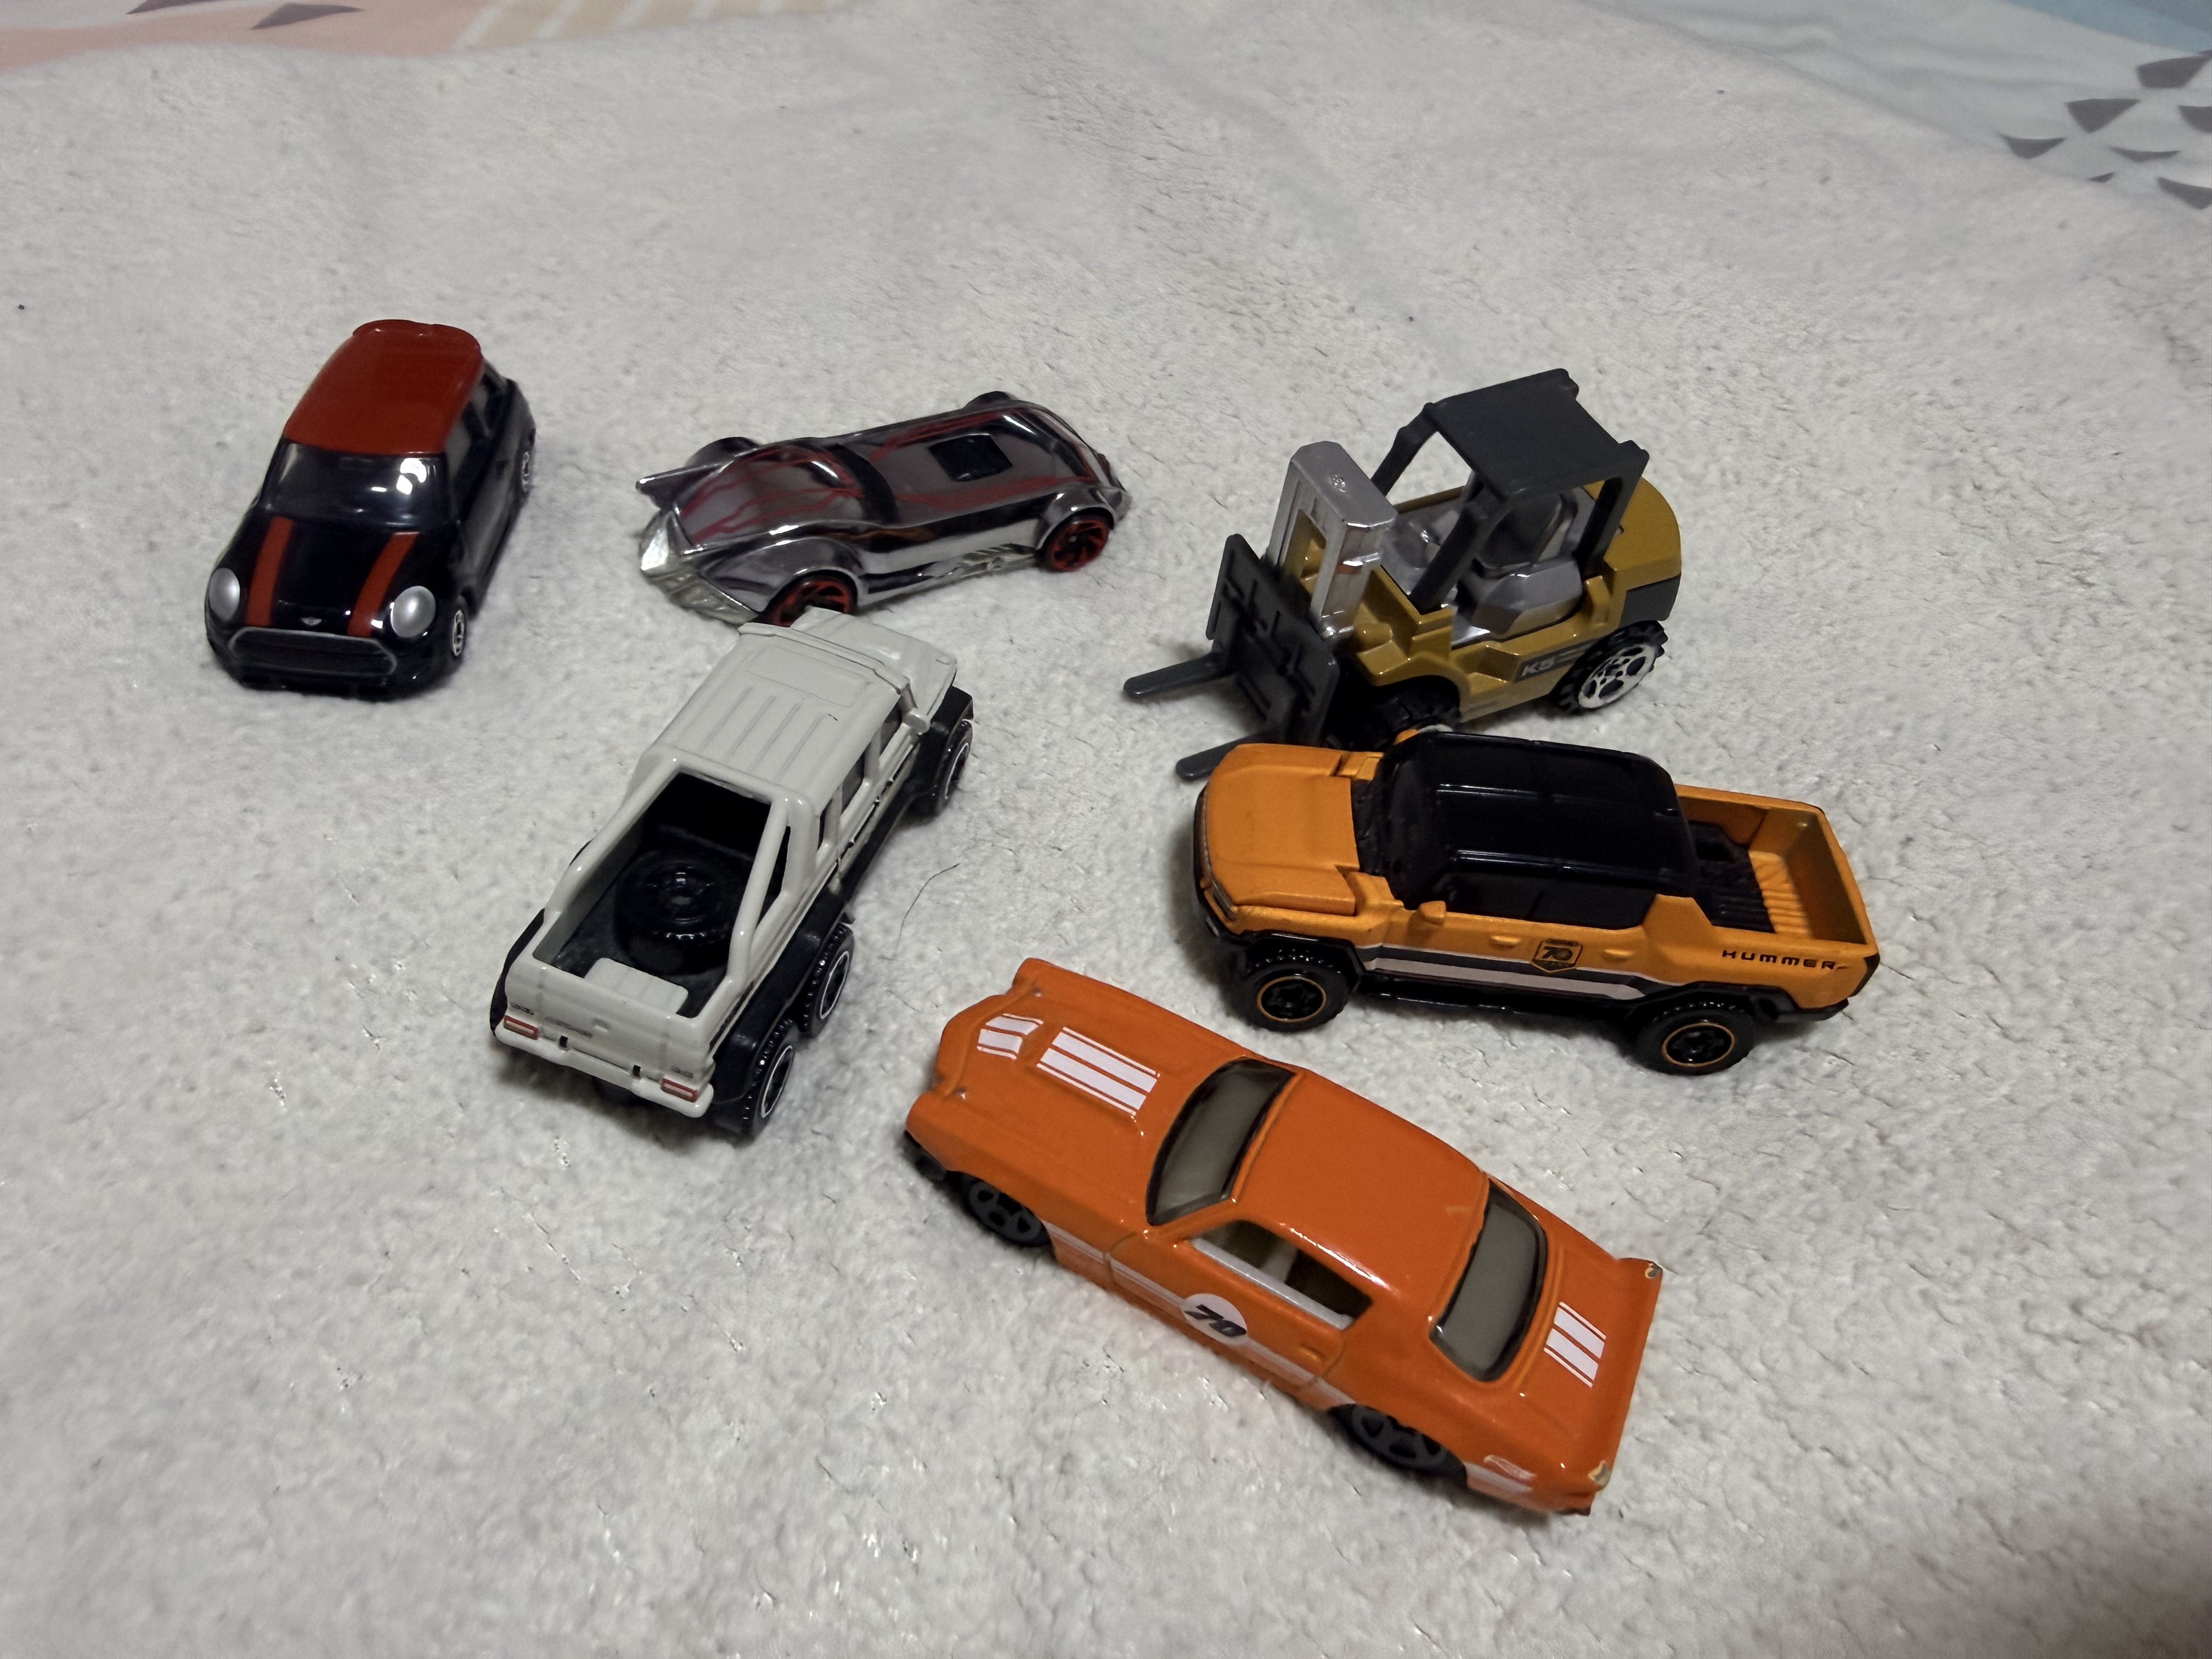camaro_rs: (906, 955, 1665, 1521)
dc_comics: (634, 389, 1137, 627)
forklift: (1123, 366, 1684, 781)
gmc_hummer: (1191, 721, 1881, 1077)
mercedes_benz: (489, 605, 977, 1145)
mini_cooper: (202, 319, 536, 701)
